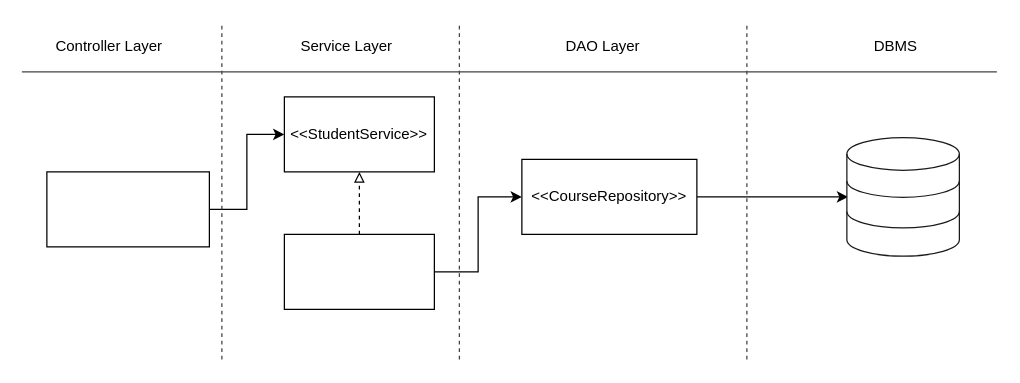
Some shapes in this 1020 by 383 pixel diagram are drawn without their labels. The shapes that lost their labels are listed below. From the top down, each one's box as (x1, y1, x2, y2) in pixels, then its label:
(46, 171, 209, 247): StudentRestController
(283, 233, 434, 309): StudentServiceImpl
